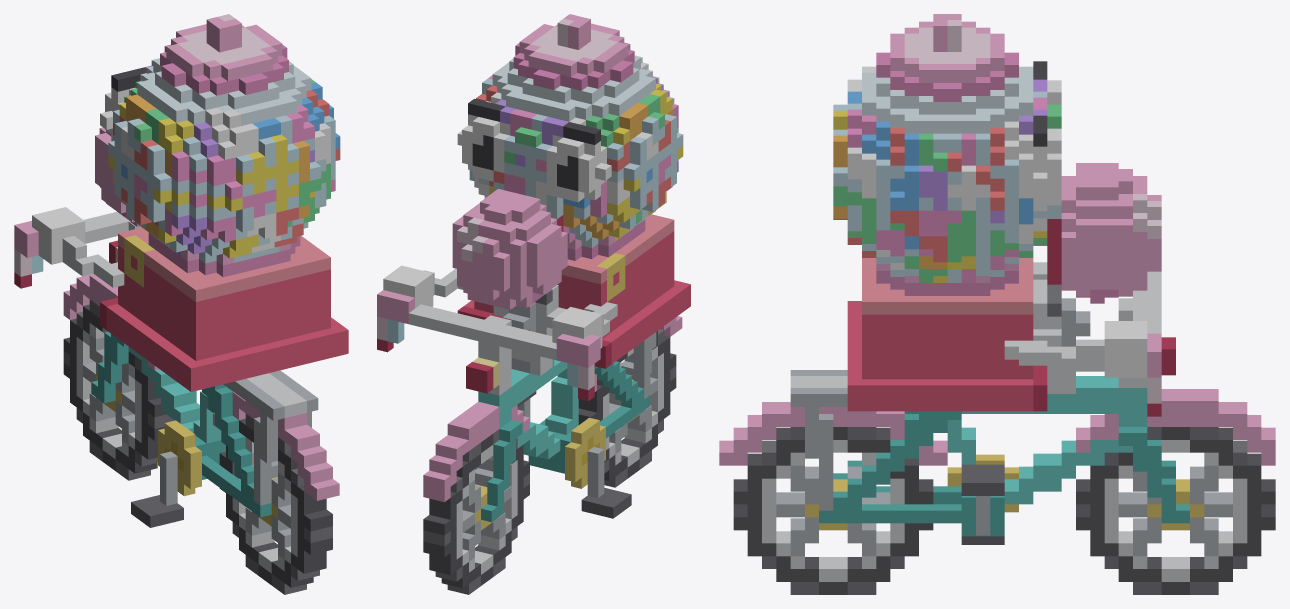
Rendered from ChicleteiraBicicleteira.glb.
3 views of the same model, side by side, from view 1: azimuth 30°, elevation 25°; view 2: azimuth 150°, elevation 25°; view 3: azimuth 270°, elevation 25° (orthographic). The views are drawn at different scales.
Visible parts, largest first — view 1: geometry_0; view 2: geometry_0; view 3: geometry_0.
Part boxes in pixels (x1=…): geometry_0: x1=14, y1=14, x2=348, y2=594; geometry_0: x1=377, y1=14, x2=690, y2=594; geometry_0: x1=719, y1=14, x2=1275, y2=594.
Size of the model in its own units: 0.4545 by 1 by 0.8864.
